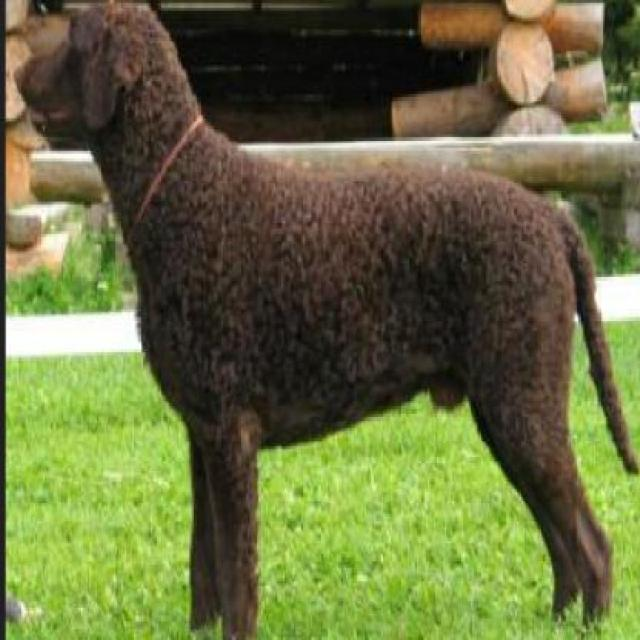Dog: (12, 0, 638, 638)
